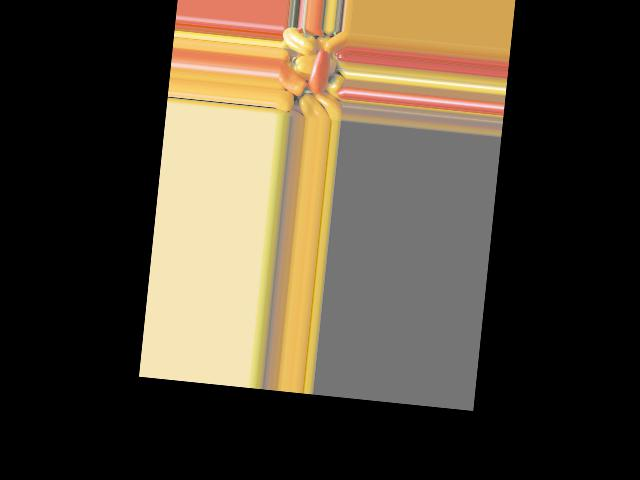bell_pepper: (282, 26, 315, 57)
